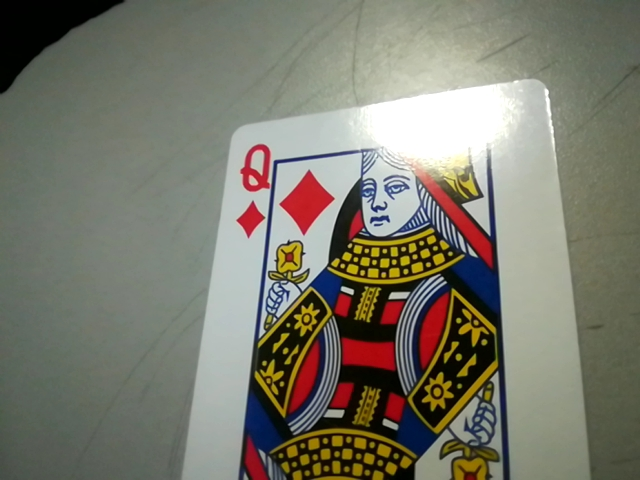fk q: (223, 137, 277, 236)
